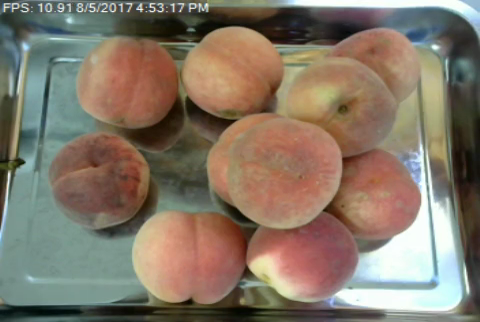Peach: (226, 119, 342, 230), (132, 210, 250, 304), (288, 53, 396, 153), (48, 130, 153, 227), (244, 213, 359, 301), (180, 25, 287, 118), (78, 36, 181, 127), (331, 146, 423, 234), (326, 25, 420, 103)
